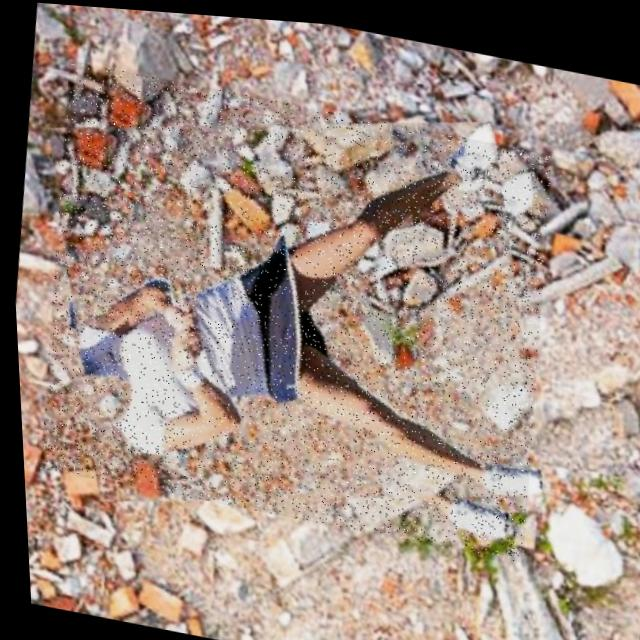Person in Rubble: (18, 55, 567, 557)
